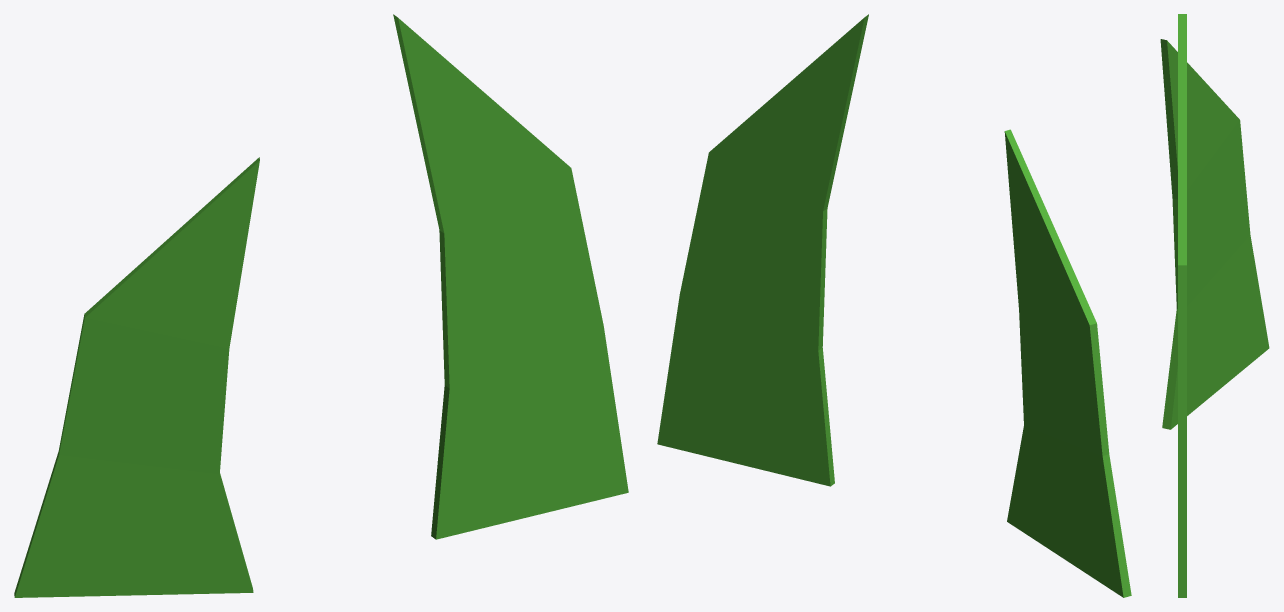
The model's file is Grass_01.fbx.
3 views of the same model, side by side, from view 1: azimuth 30°, elevation 25°; view 2: azimuth 150°, elevation 25°; view 3: azimuth 270°, elevation 25° (orthographic). The views are drawn at different scales.
Parts seen in each view (by area): view 1: Grass_01; view 2: Grass_01; view 3: Grass_01.
Boxes of the visible parts, x1,y1,x2,y2 form: Grass_01: (14,14,628,597); Grass_01: (657,14,1131,597); Grass_01: (1160,14,1269,597).
Size of the model in its own units: 41.12 by 36.74 by 7.53.
